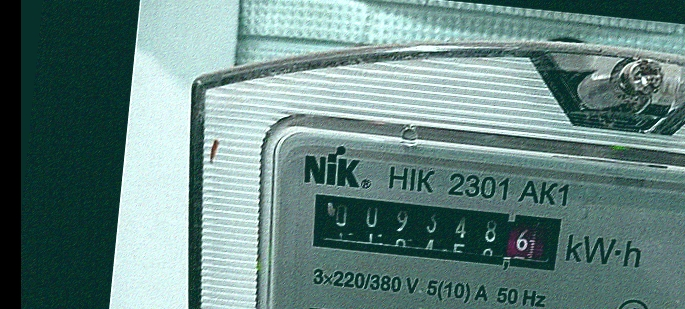0: (332, 201, 351, 228), (363, 201, 380, 228)
3: (424, 208, 440, 234)
4: (451, 209, 471, 240)
6: (513, 223, 532, 254)
8: (482, 215, 500, 244)
9: (394, 207, 410, 235)
screen: (292, 177, 577, 283)
